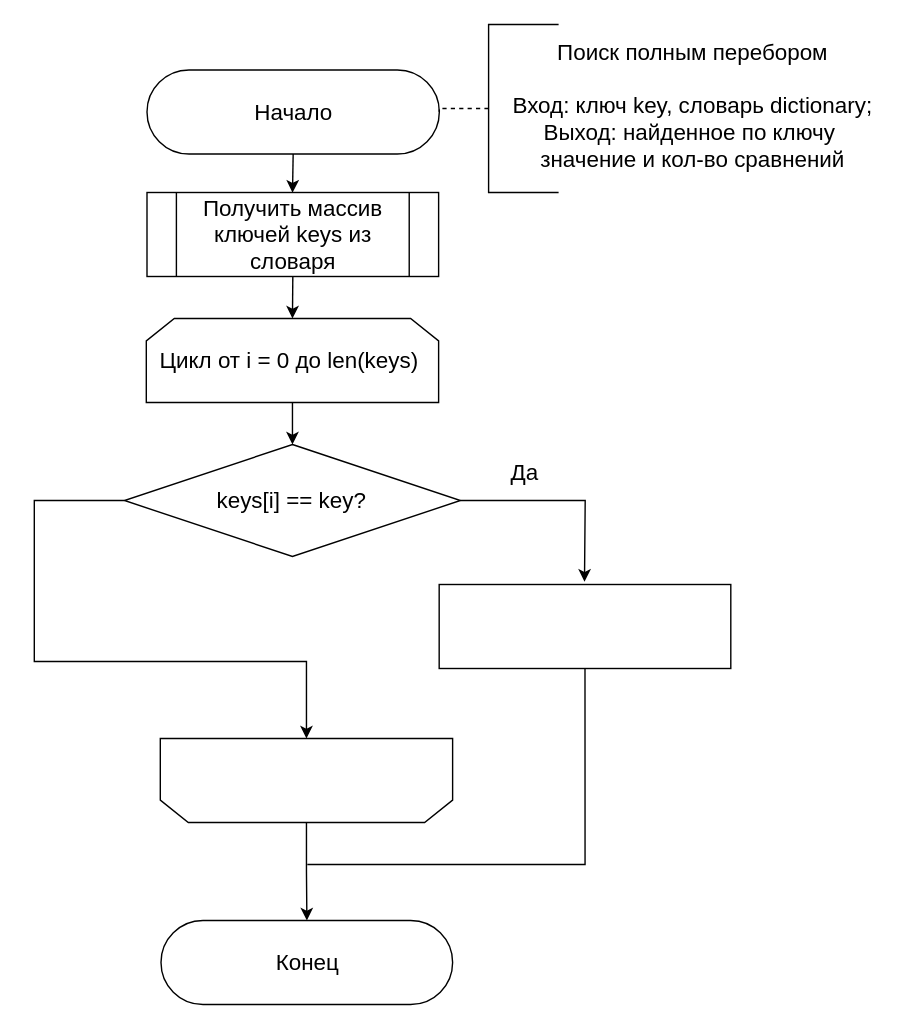
Image size: 911x1029. Some labels were removed from this diagram. Here are the shapes that lost their labels. From the top down, the centre of each, then its label:
At point (584, 625): "вернуть dictionary[key] и i + 1".
At point (306, 779): "i += 1".
